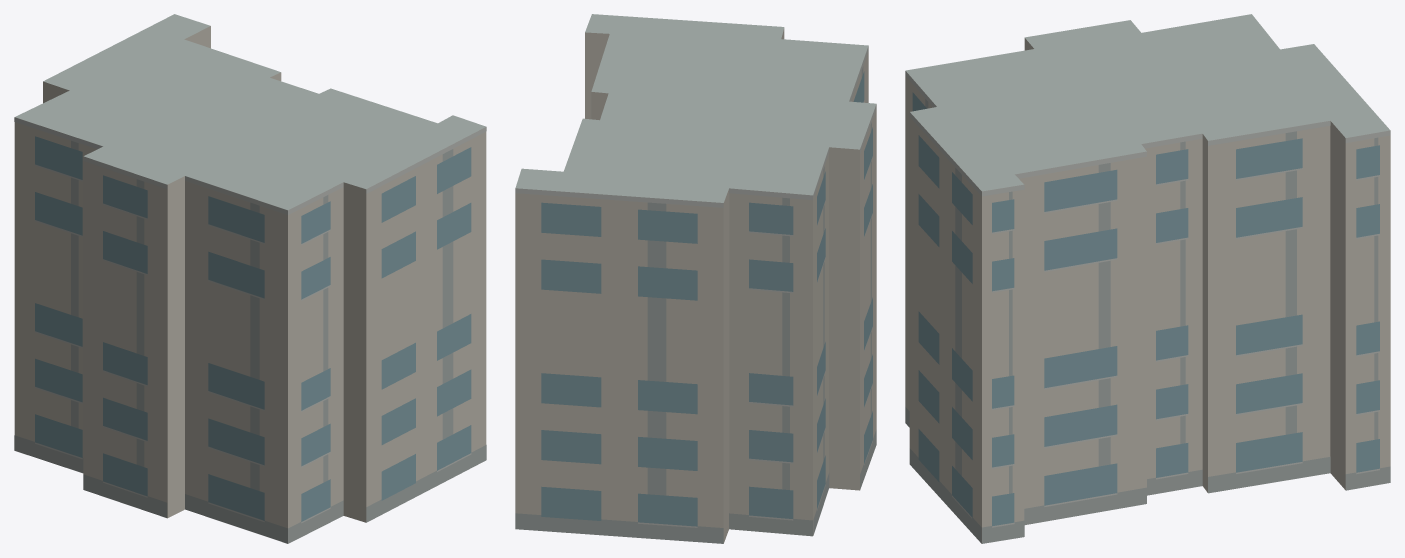
File: survey-upis-32947056.glb
The picture shows the model from 3 angles, left to right: view 1: azimuth 30°, elevation 25°; view 2: azimuth 150°, elevation 25°; view 3: azimuth 270°, elevation 25°; orthographic projection. The views are drawn at different scales.
Parts seen in each view (by area): view 1: survey-upis-32947056.tmp; view 2: survey-upis-32947056.tmp; view 3: survey-upis-32947056.tmp.
Boxes of the visible parts, left/top/right/bottom form: survey-upis-32947056.tmp: left=14, top=14, right=486, bottom=543; survey-upis-32947056.tmp: left=515, top=14, right=876, bottom=543; survey-upis-32947056.tmp: left=905, top=14, right=1390, bottom=543.
Size of the model in its own units: 18.37 by 17 by 21.22.
